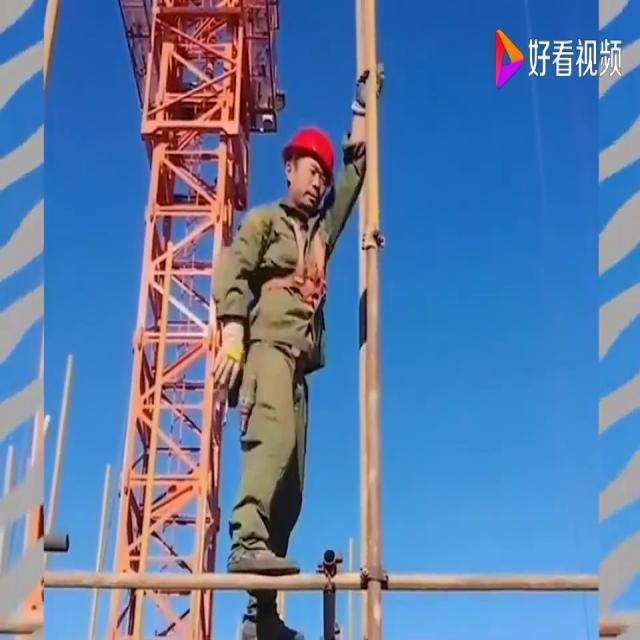Arnes_seguridad: (255, 193, 333, 320)
